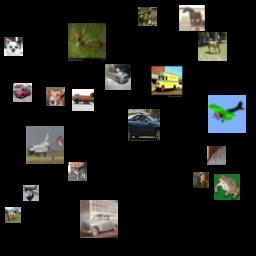airplane: (26, 126, 64, 164), (208, 95, 246, 133), (23, 185, 39, 201)
automobile: (80, 200, 118, 238), (128, 109, 160, 141), (105, 64, 131, 90), (13, 83, 32, 102)
bird: (193, 172, 209, 188)
cat: (68, 162, 87, 181)
deer: (68, 23, 106, 61)
dog: (4, 37, 23, 56), (46, 87, 65, 106), (207, 146, 226, 165)
frog: (214, 174, 240, 200), (138, 7, 157, 26)
truck: (151, 65, 183, 97), (72, 89, 94, 111)
